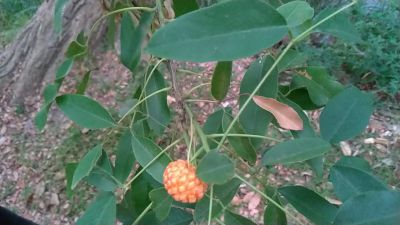eggs: (160, 155, 206, 203)
